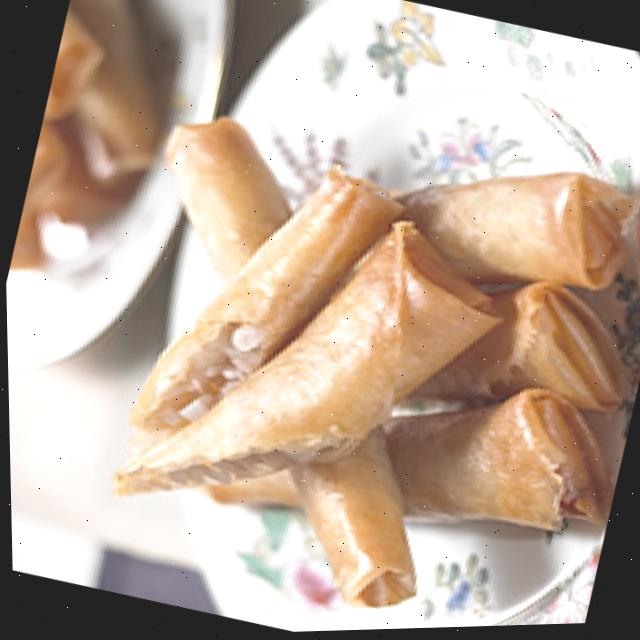鸡蛋料理: (69, 67, 640, 638)
